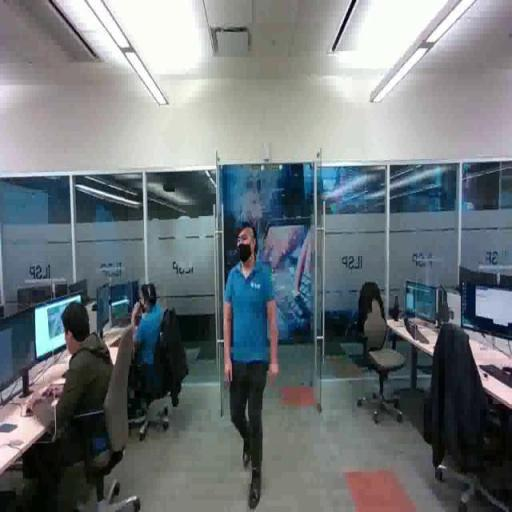person: (223, 214, 281, 512)
